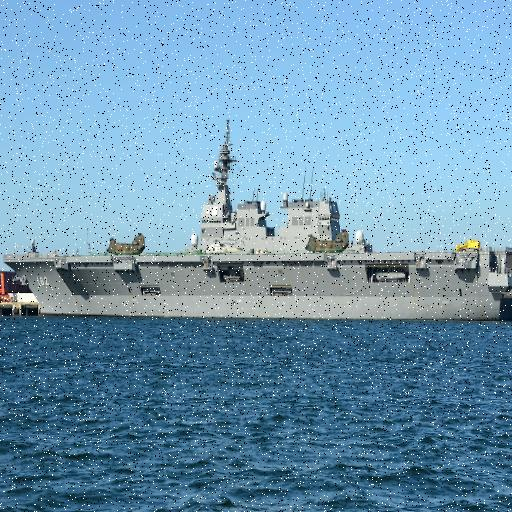Portanaves: (1, 112, 512, 328)
